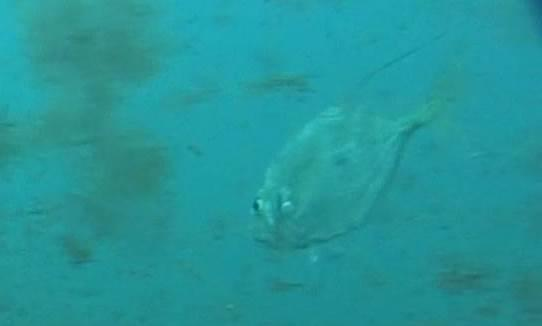Carangidae -Jacks-: (245, 26, 474, 258)
